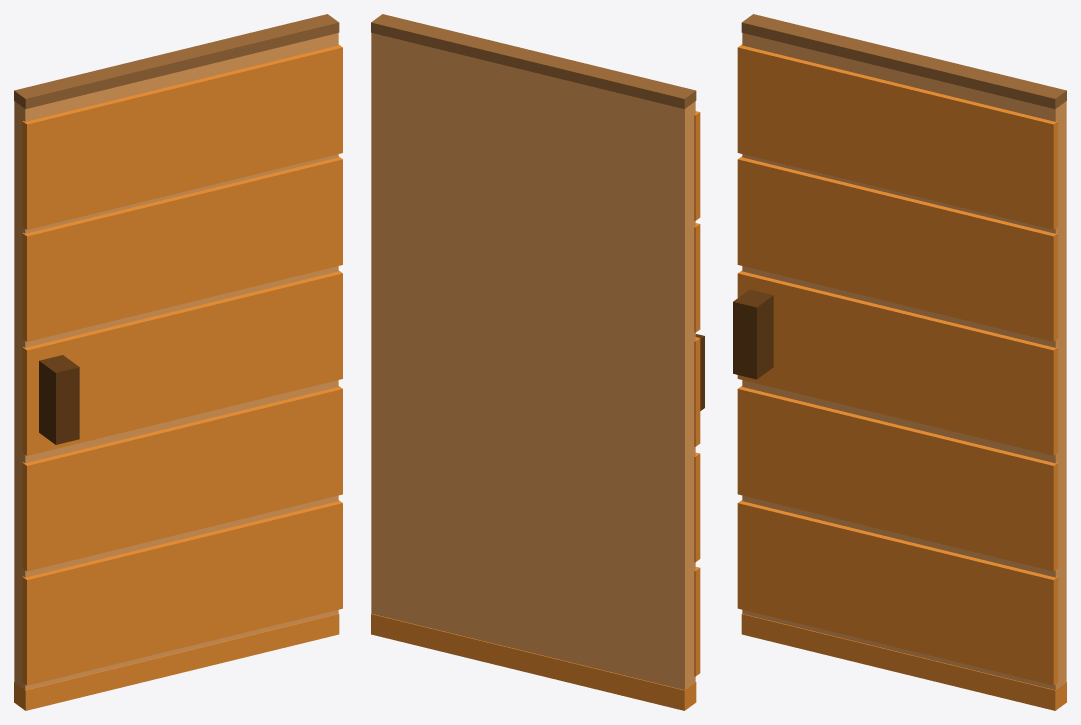
File: sauna_shortcut_door.fbx
3 renders of one model, left to right at view 1: azimuth 30°, elevation 25°; view 2: azimuth 150°, elevation 25°; view 3: azimuth 330°, elevation 25°, orthographic.
Parts seen in each view (by area): view 1: IC_Wall01.018; view 2: IC_Wall01.018; view 3: IC_Wall01.018.
Part boxes in pixels (x1,y1,x2,y2): IC_Wall01.018: (14,14,342,710); IC_Wall01.018: (371,14,704,710); IC_Wall01.018: (733,14,1066,710).
Bounding box in the file's own units: 162 × 300 × 27.65.
